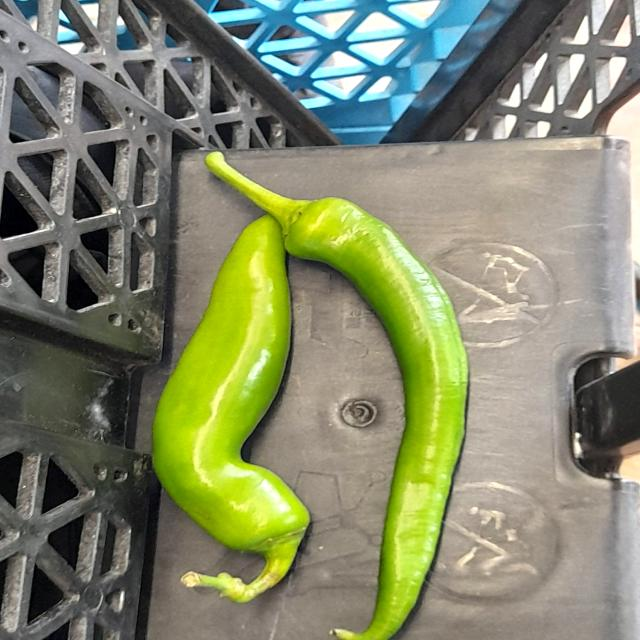green pepper: (235, 157, 472, 640), (145, 198, 320, 596)
